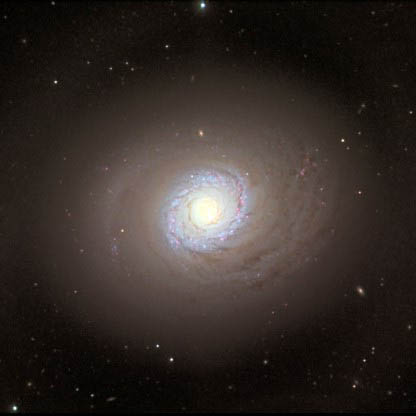Messier 94: (25, 31, 399, 389)
